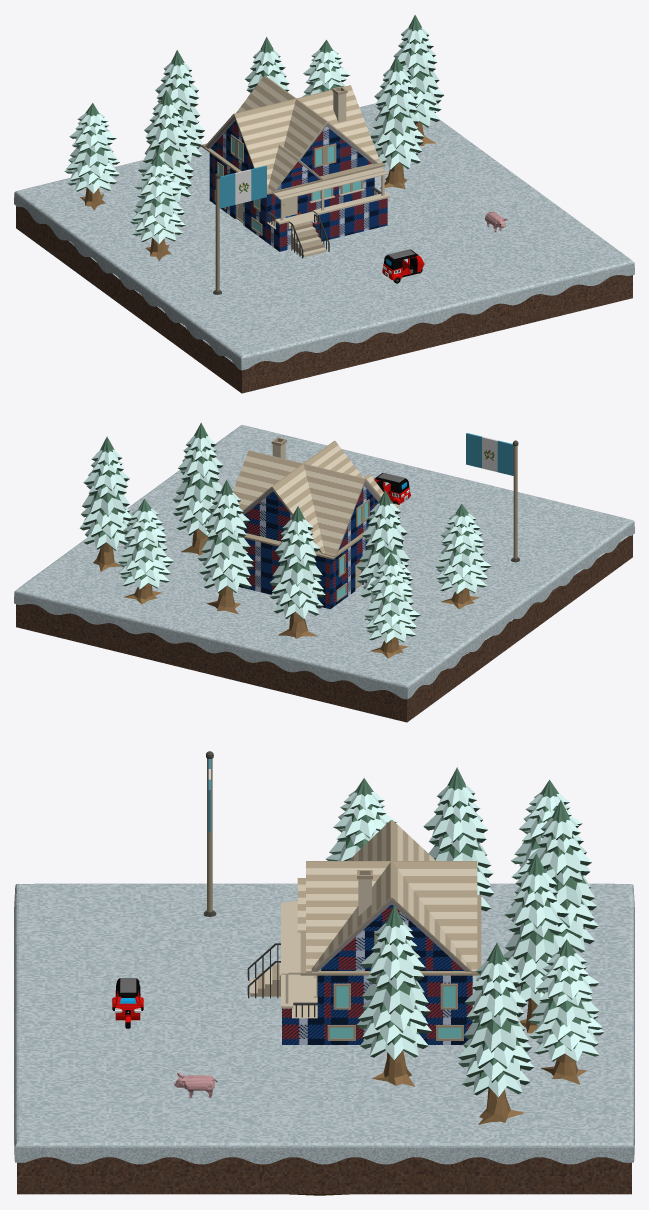
3 renders of one model, top to bottom at view 1: azimuth 30°, elevation 25°; view 2: azimuth 150°, elevation 25°; view 3: azimuth 270°, elevation 25°, orthographic. The views are drawn at different scales.
Visible parts, largest first — view 1: Cube.003, Cube.171, OBJRANDOM_GUATEMALAN_FLAG, VEHICLES_TUC_TUC; view 2: Cube.003, Cube.171, OBJRANDOM_GUATEMALAN_FLAG, VEHICLES_TUC_TUC; view 3: Cube.003, Cube.171, VEHICLES_TUC_TUC, OBJRANDOM_GUATEMALAN_FLAG, ANIMAL_CERDO.
Boxes of the visible parts, x1,y1,x2,y2 form: Cube.003: (14, 15, 634, 393); Cube.171: (201, 75, 390, 258); OBJRANDOM_GUATEMALAN_FLAG: (213, 165, 266, 294); VEHICLES_TUC_TUC: (382, 249, 424, 283); Cube.003: (14, 422, 634, 722); Cube.171: (233, 437, 402, 609); OBJRANDOM_GUATEMALAN_FLAG: (466, 433, 519, 562); VEHICLES_TUC_TUC: (374, 473, 410, 504); Cube.003: (14, 767, 634, 1194); Cube.171: (247, 820, 481, 1044); VEHICLES_TUC_TUC: (112, 978, 143, 1028); OBJRANDOM_GUATEMALAN_FLAG: (203, 751, 216, 916); ANIMAL_CERDO: (174, 1073, 217, 1097).
Size of the model in its own units: 4040 by 1758 by 4040.
38 materials, 4 textured.
